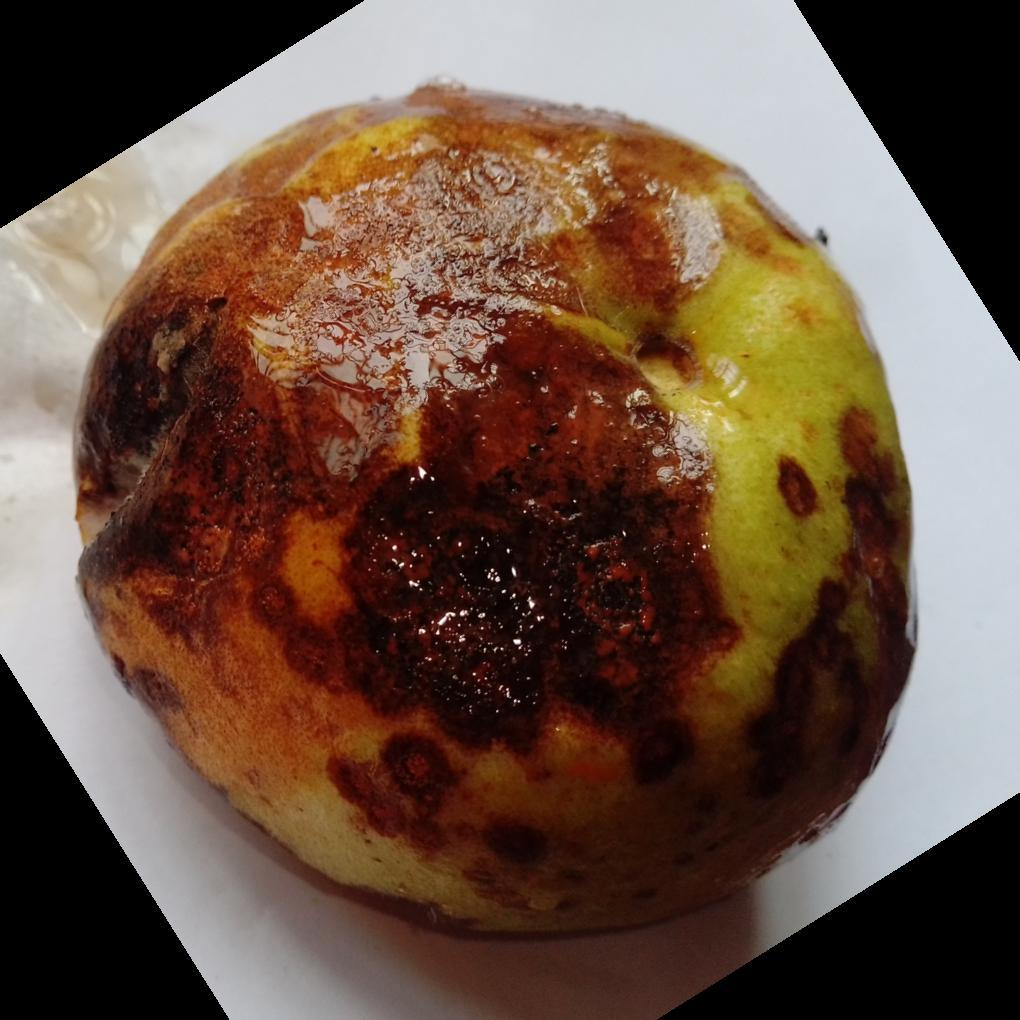FreshOrange: (71, 83, 919, 944)
